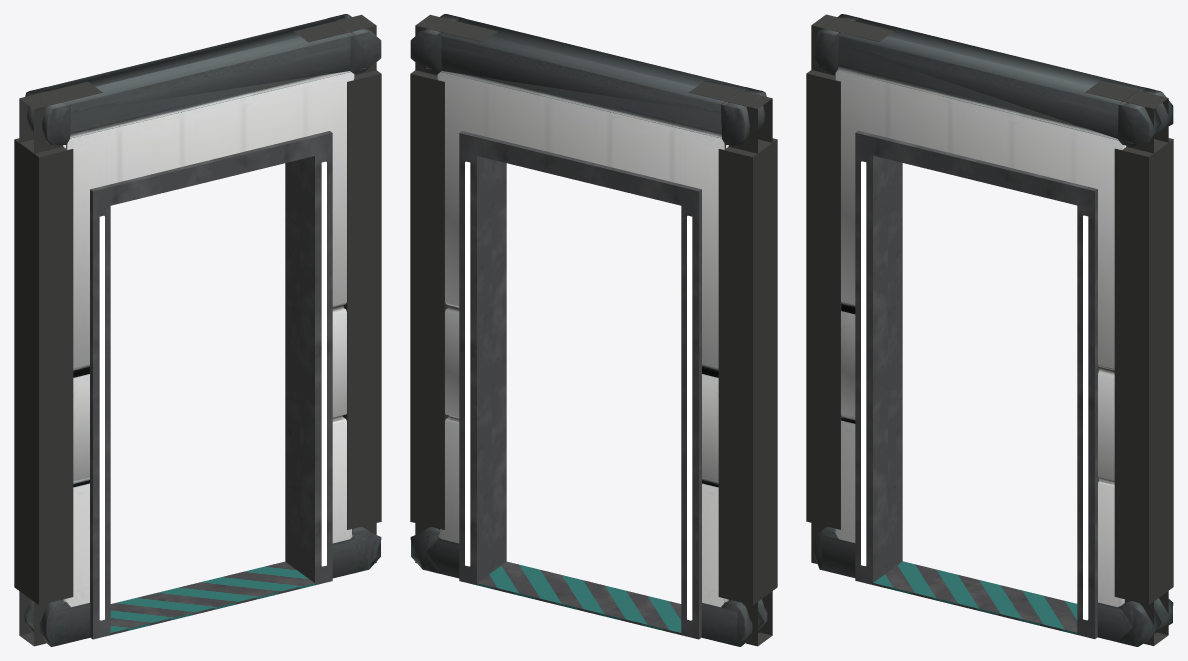
File: wall-doorway.glb
3 renders of one model, left to right at view 1: azimuth 30°, elevation 25°; view 2: azimuth 150°, elevation 25°; view 3: azimuth 330°, elevation 25°, orthographic.
Visible parts, largest first — view 1: object 1, DoorLining_gunmetal, DoorLining_stripes, DoorLining_glow; view 2: object 1, DoorLining_gunmetal, DoorLining_stripes, DoorLining_glow; view 3: object 1, DoorLining_gunmetal, DoorLining_stripes, DoorLining_glow.
Part boxes in pixels (x1,y1,x2,y2): object 1: (14, 14, 381, 646); DoorLining_gunmetal: (90, 131, 332, 639); DoorLining_stripes: (110, 561, 314, 635); DoorLining_glow: (99, 161, 326, 620); object 1: (410, 14, 777, 646); DoorLining_gunmetal: (459, 131, 701, 639); DoorLining_stripes: (477, 561, 681, 635); DoorLining_glow: (465, 161, 692, 620); object 1: (806, 14, 1173, 646); DoorLining_gunmetal: (855, 130, 1099, 638); DoorLining_stripes: (872, 561, 1077, 634); DoorLining_glow: (861, 161, 1088, 620).
Size of the model in its own units: 2 by 3 by 0.32.
4 materials, 3 textured.
